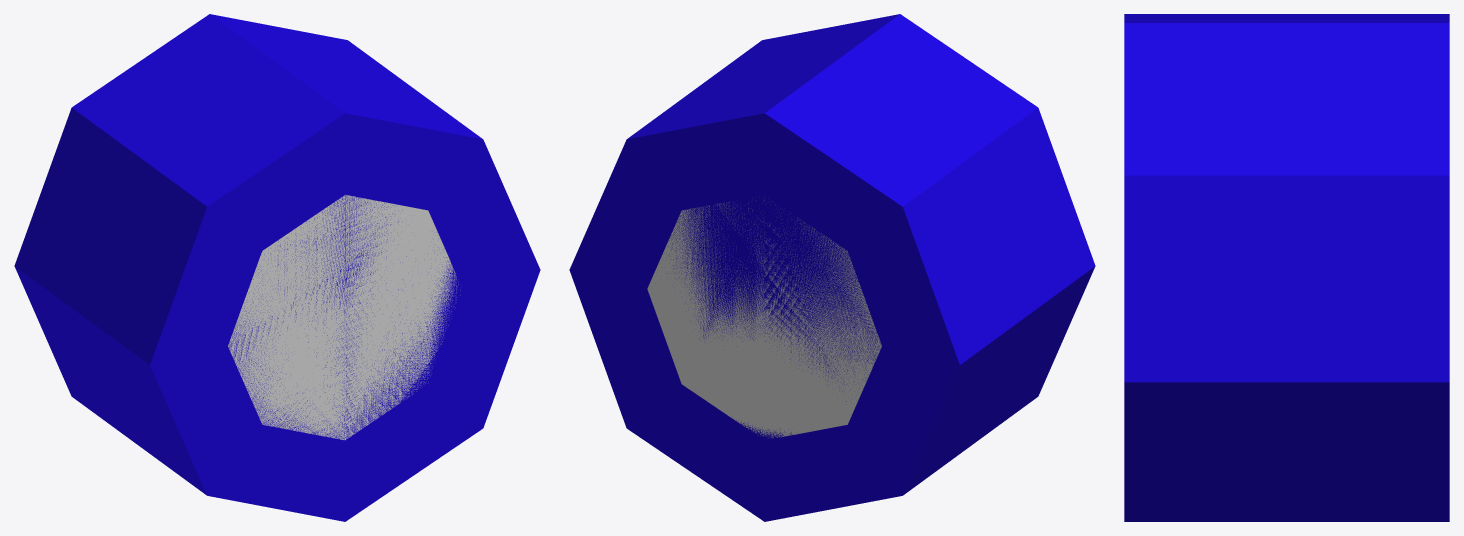
The model's file is LaserBeamBlue.fbx.
3 views of the same model, side by side, from view 1: azimuth 30°, elevation 25°; view 2: azimuth 150°, elevation 25°; view 3: azimuth 270°, elevation 25° (orthographic). The views are drawn at different scales.
Visible parts, largest first — view 1: Cylinder.001, Cylinder; view 2: Cylinder.001, Cylinder; view 3: Cylinder.001.
Boxes of the visible parts, bbox=[...] form: Cylinder.001: bbox=[14, 14, 540, 521]; Cylinder: bbox=[228, 194, 460, 440]; Cylinder.001: bbox=[569, 14, 1095, 521]; Cylinder: bbox=[647, 200, 881, 438]; Cylinder.001: bbox=[1124, 14, 1449, 521].
Size of the model in its own units: 333 by 333 by 200.
